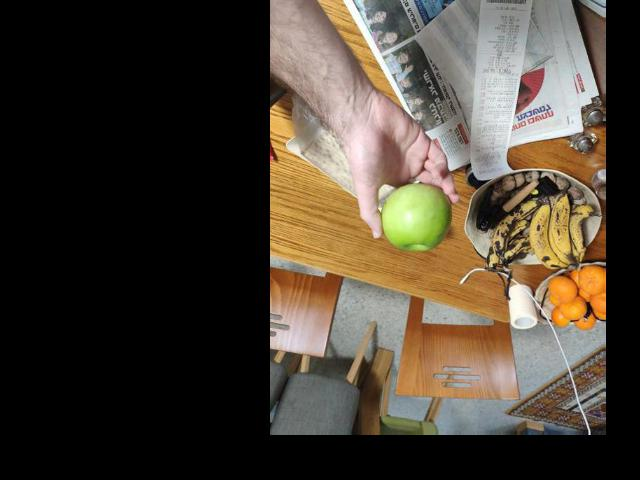apple: (376, 178, 452, 259)
